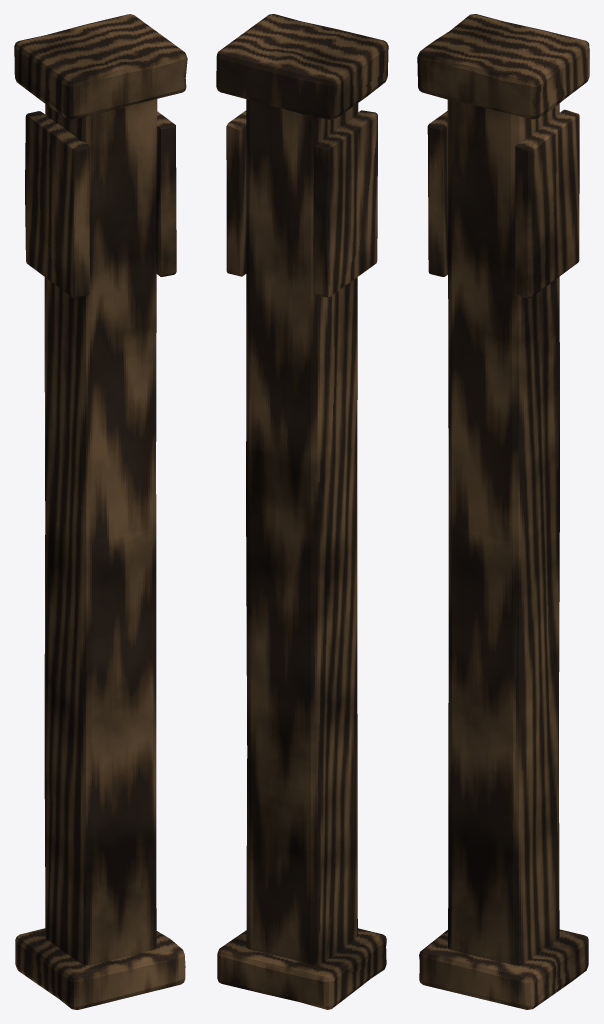
File: mine_timber_post.glb
The picture shows the model from 3 angles, left to right: view 1: azimuth 30°, elevation 25°; view 2: azimuth 150°, elevation 25°; view 3: azimuth 330°, elevation 25°; orthographic projection.
Visible parts, largest first — view 1: mine_timber_post; view 2: mine_timber_post; view 3: mine_timber_post.
Boxes of the visible parts, x1=… form: mine_timber_post: x1=14, y1=14, x2=187, y2=1009; mine_timber_post: x1=216, y1=14, x2=388, y2=1009; mine_timber_post: x1=417, y1=14, x2=589, y2=1009.
Size of the model in its own units: 0.4229 by 3.09 by 0.3641.
1 material, 1 textured.
